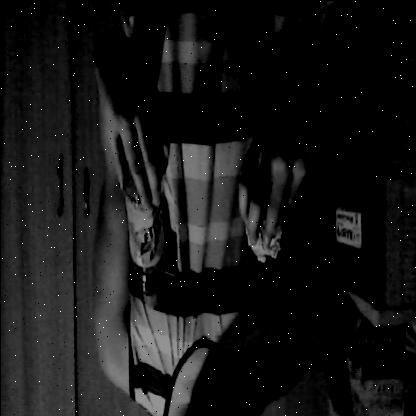Plastic Bottle: (116, 157, 174, 318)
